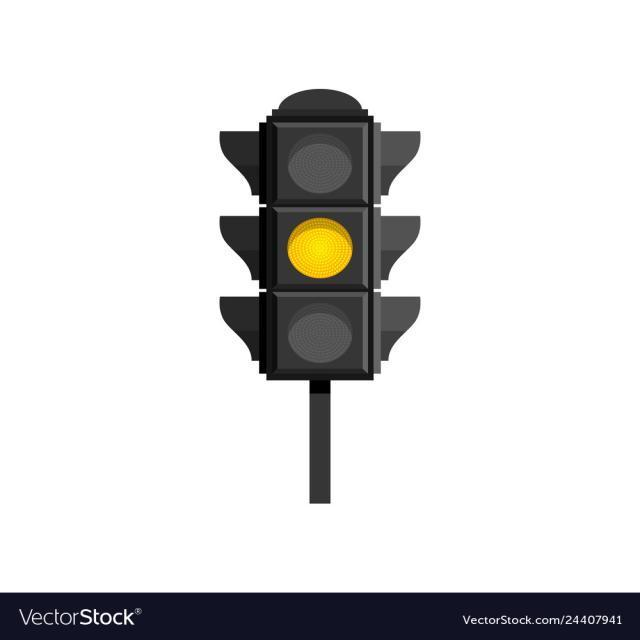yellow_light: (219, 88, 418, 378)
